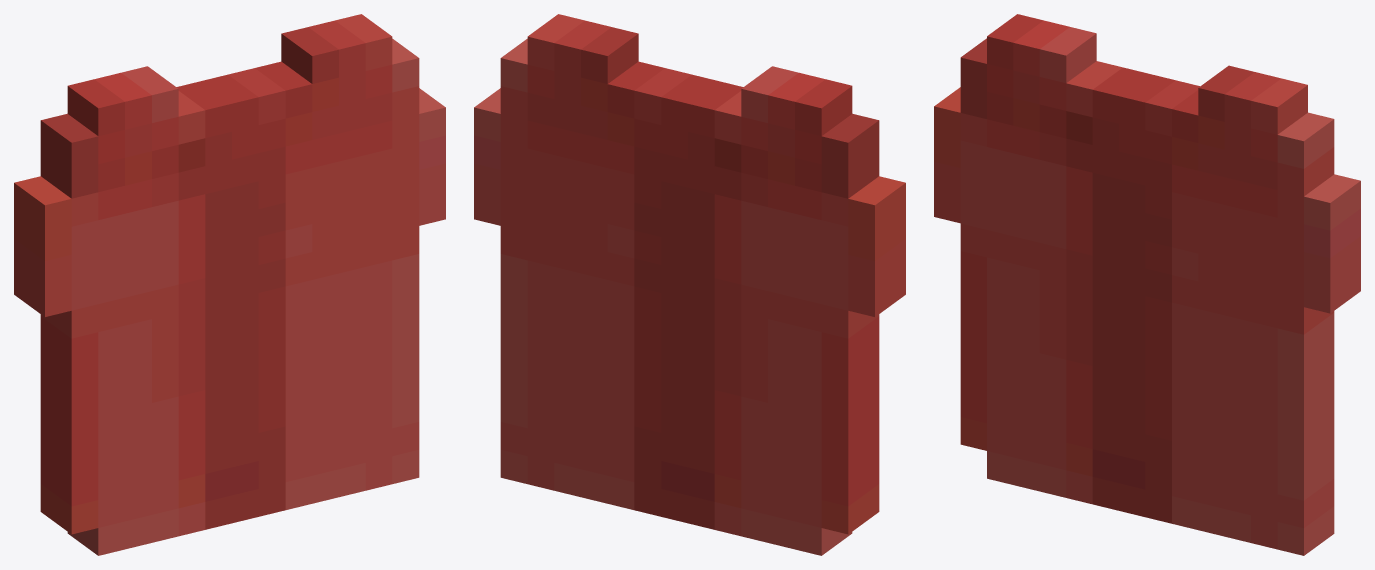
The model's file is gift-red.glb.
The picture shows the model from 3 angles, left to right: view 1: azimuth 30°, elevation 25°; view 2: azimuth 150°, elevation 25°; view 3: azimuth 330°, elevation 25°; orthographic projection.
Parts seen in each view (by area): view 1: prop; view 2: prop; view 3: prop.
Part boxes in pixels (left/top/right/bottom): prop: left=14, top=14, right=445, bottom=555; prop: left=474, top=14, right=905, bottom=555; prop: left=934, top=14, right=1360, bottom=555.
Bounding box in the file's own units: 15 × 16 × 2.
